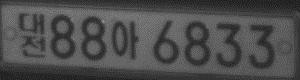3: (215, 22, 243, 67), (248, 23, 275, 68)
6: (153, 19, 178, 64)
8: (183, 20, 211, 65), (80, 15, 107, 60), (50, 13, 75, 59)
대전_V: (18, 13, 46, 58)
아: (110, 20, 139, 59)
